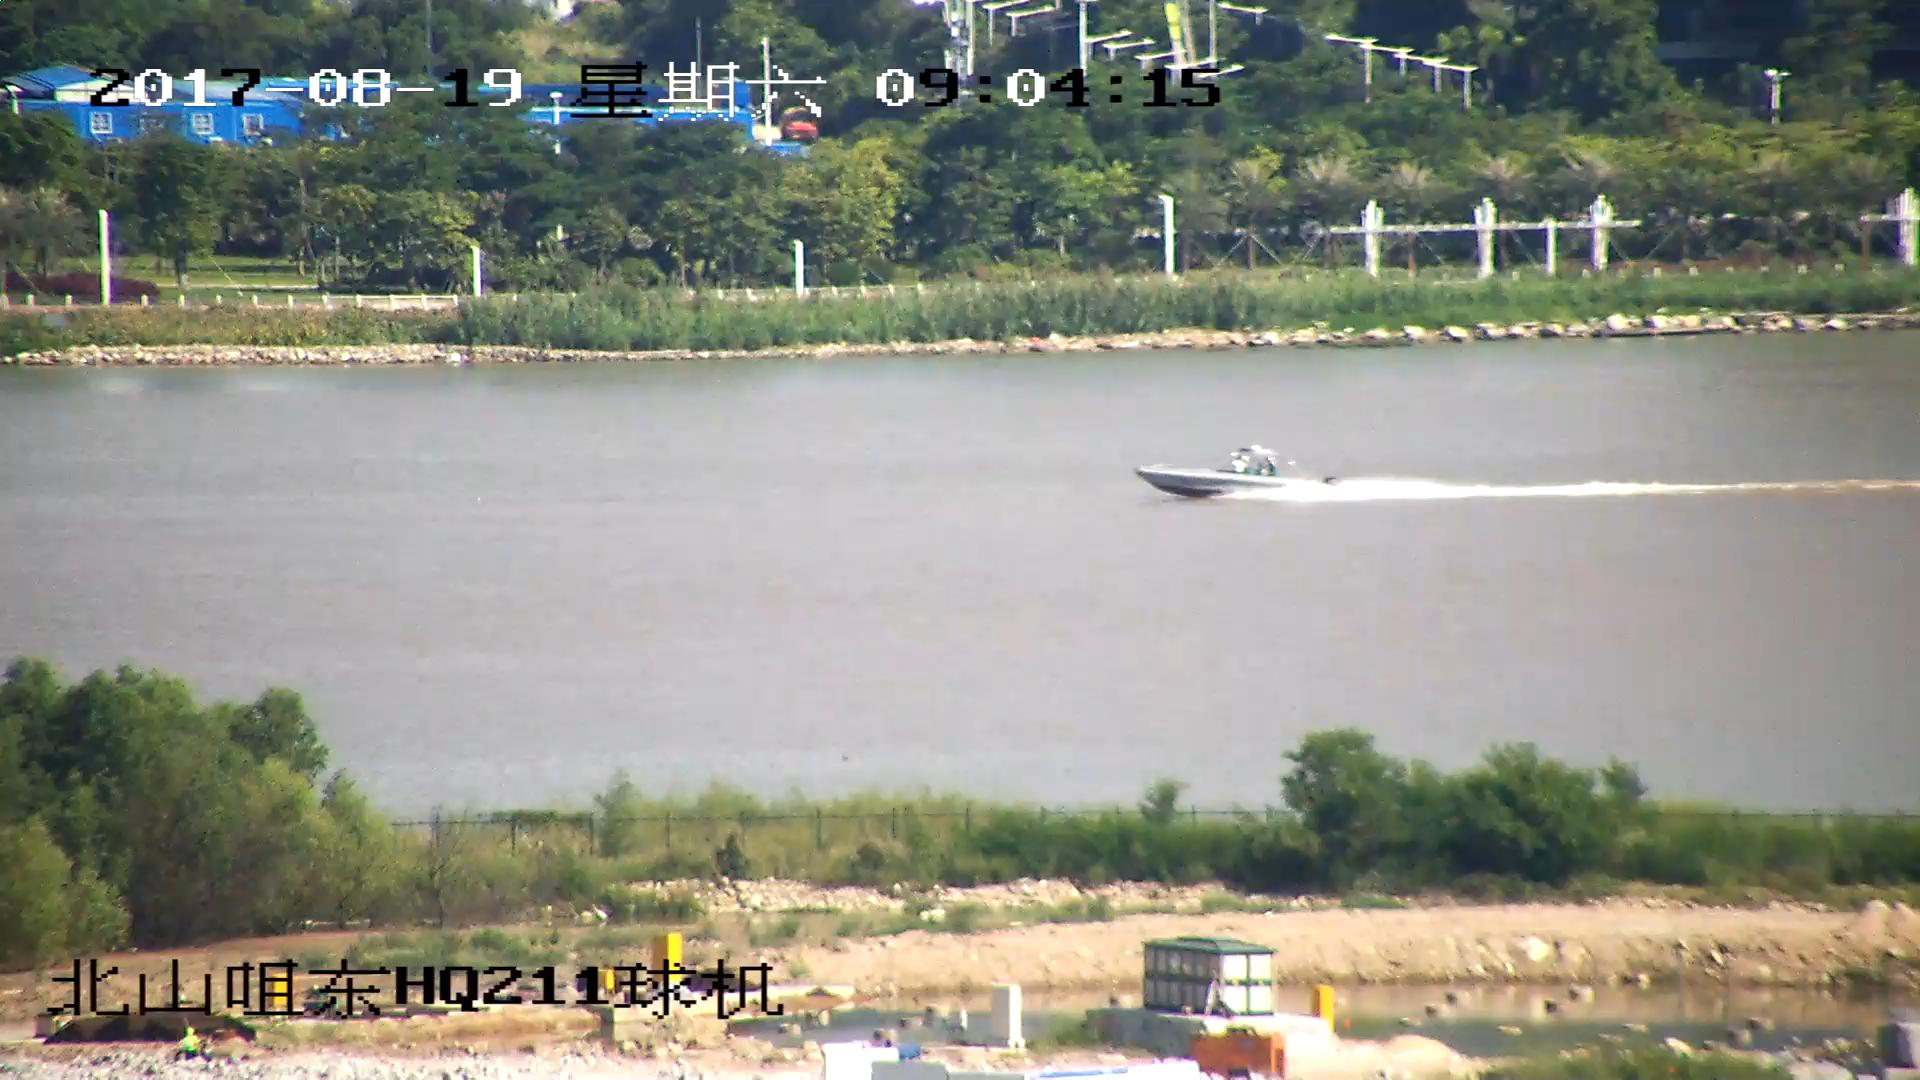passenger ship: (1137, 449, 1336, 499)
